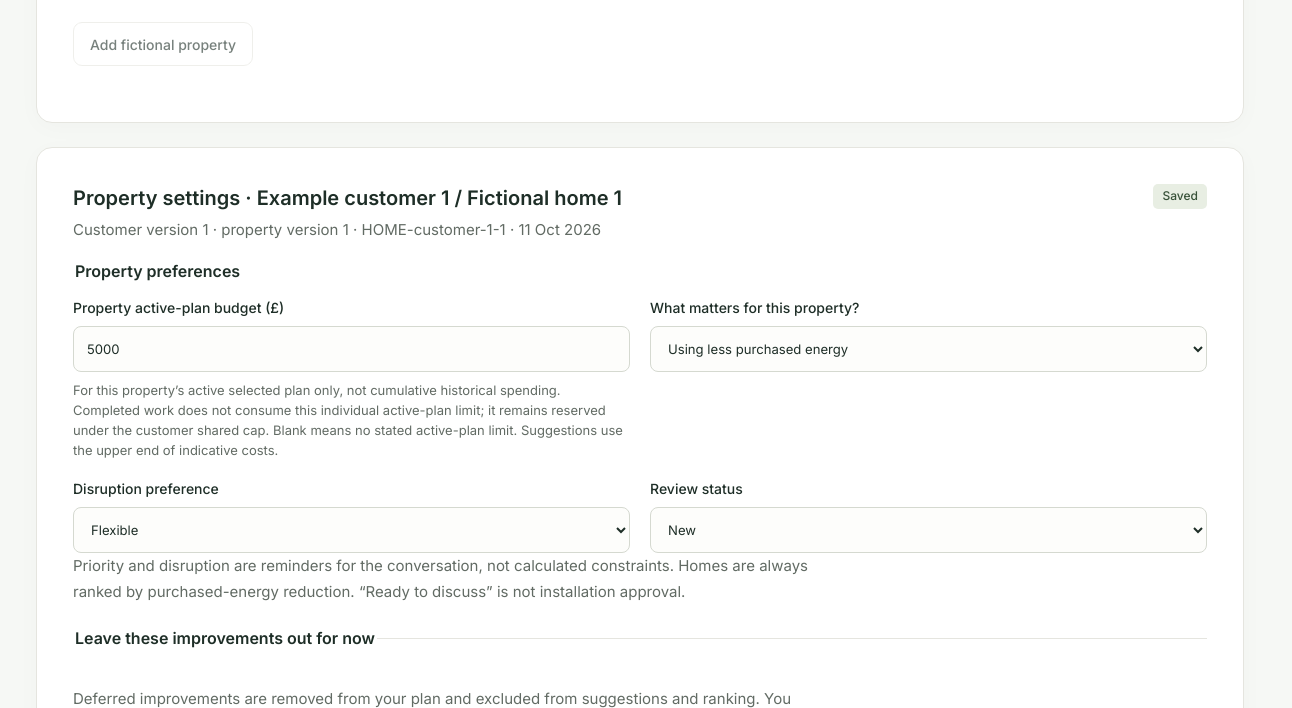
Test: canonical property ownership in the UI › protects both property drafts and customer settings on switches and unload
(page scrolled)
Replace the text in the number field labelled "Property active-plan budget (£)" with "4000" at point(352, 348), box [73,326,630,372]
(page scrolled)
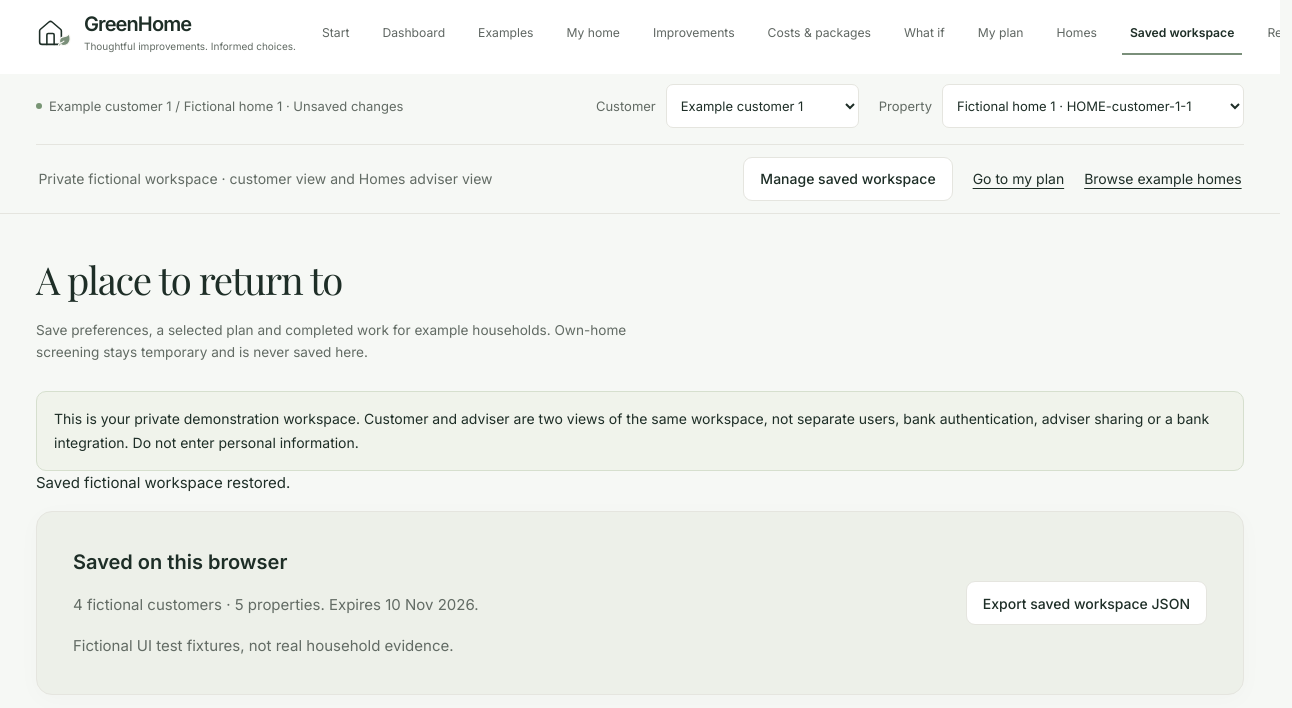
Select "Fictional home 2 · HOME-customer-1-2" in the dropdown labelled "Property" at point(1093, 106), box [942,84,1244,128]
(page scrolled)
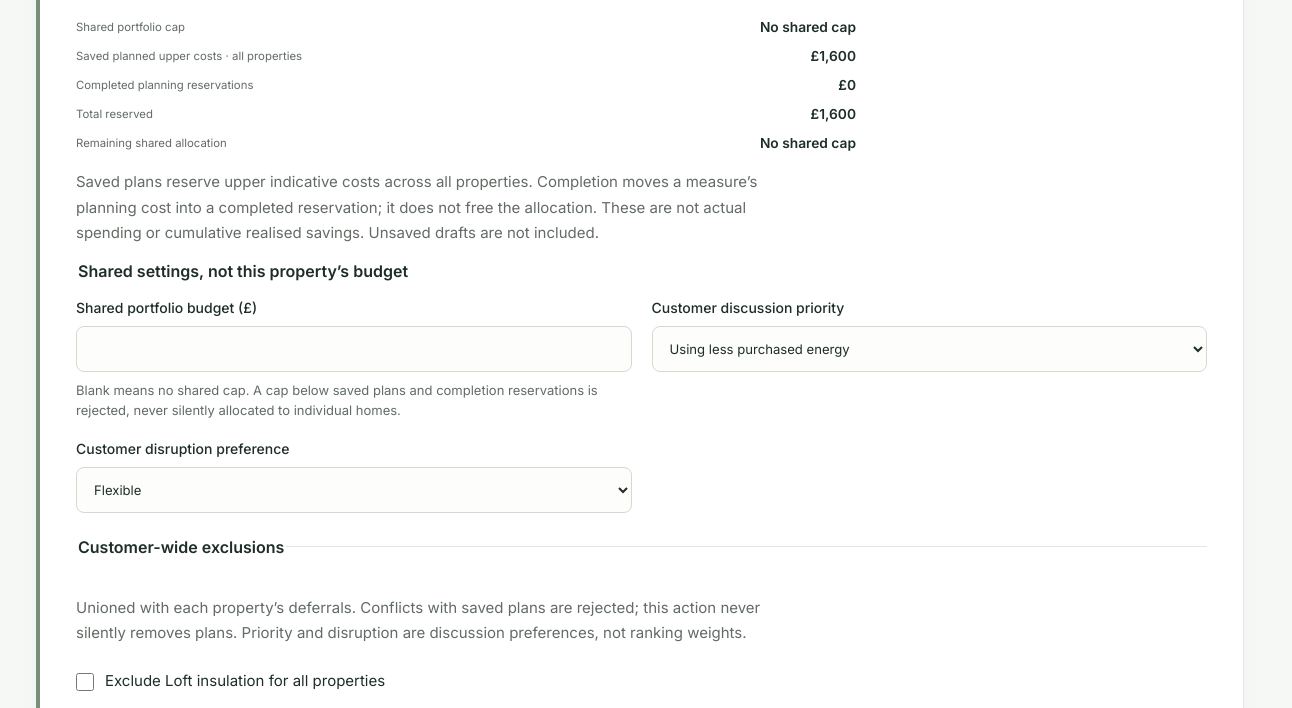
Type "20000" into the number field labelled "Shared portfolio budget (£)" at point(354, 348), box [76,326,632,372]
(page scrolled)
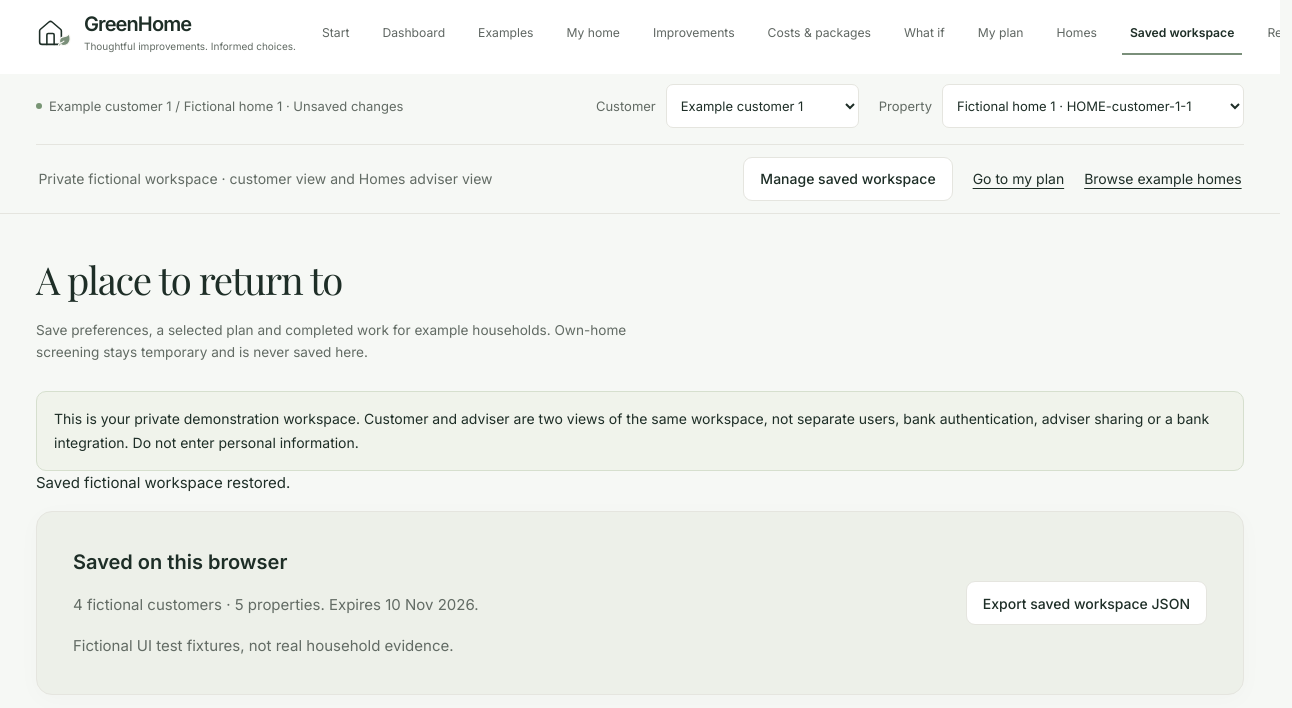
Select "Example customer 2" in the dropdown labelled "Customer" at point(762, 106), box [666,84,859,128]
Select "Fictional home 2 · HOME-customer-1-2" in the dropdown labelled "Property" at point(1093, 106), box [942,84,1244,128]
(page scrolled)
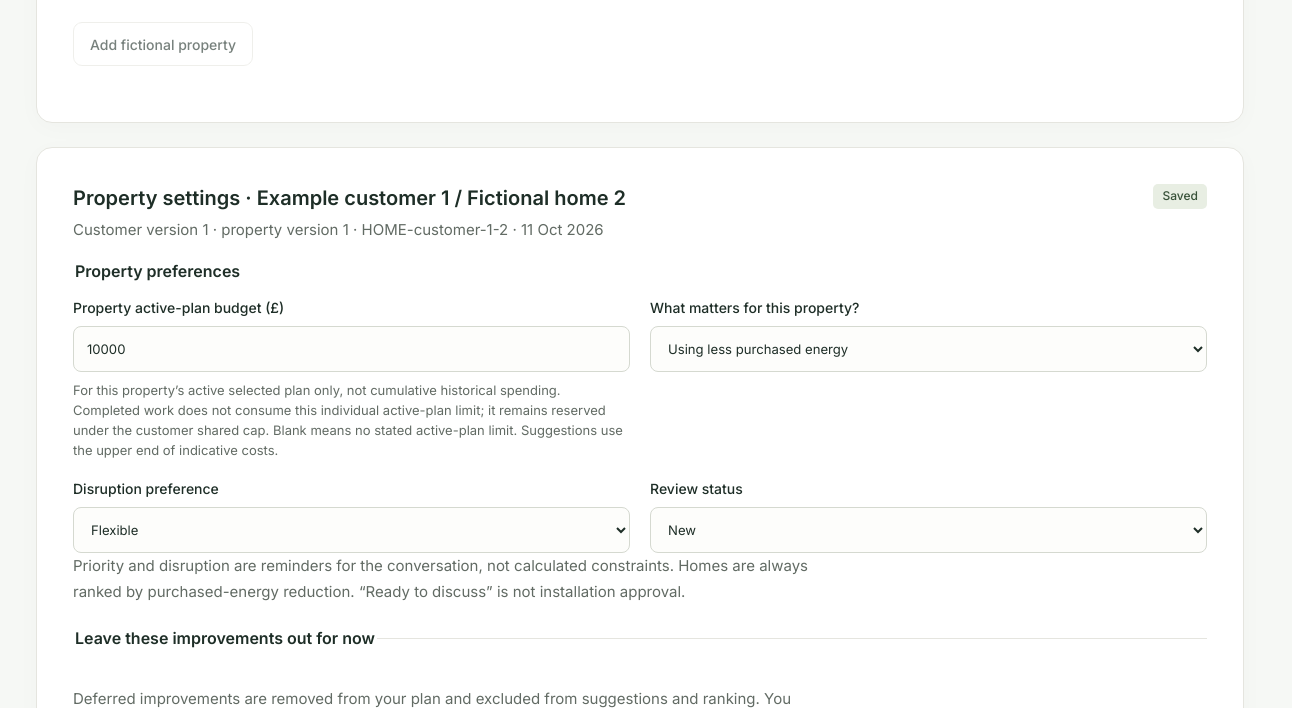
Now the number field labelled "Property active-plan budget (£)" holds "10000", box [73,326,630,372]
